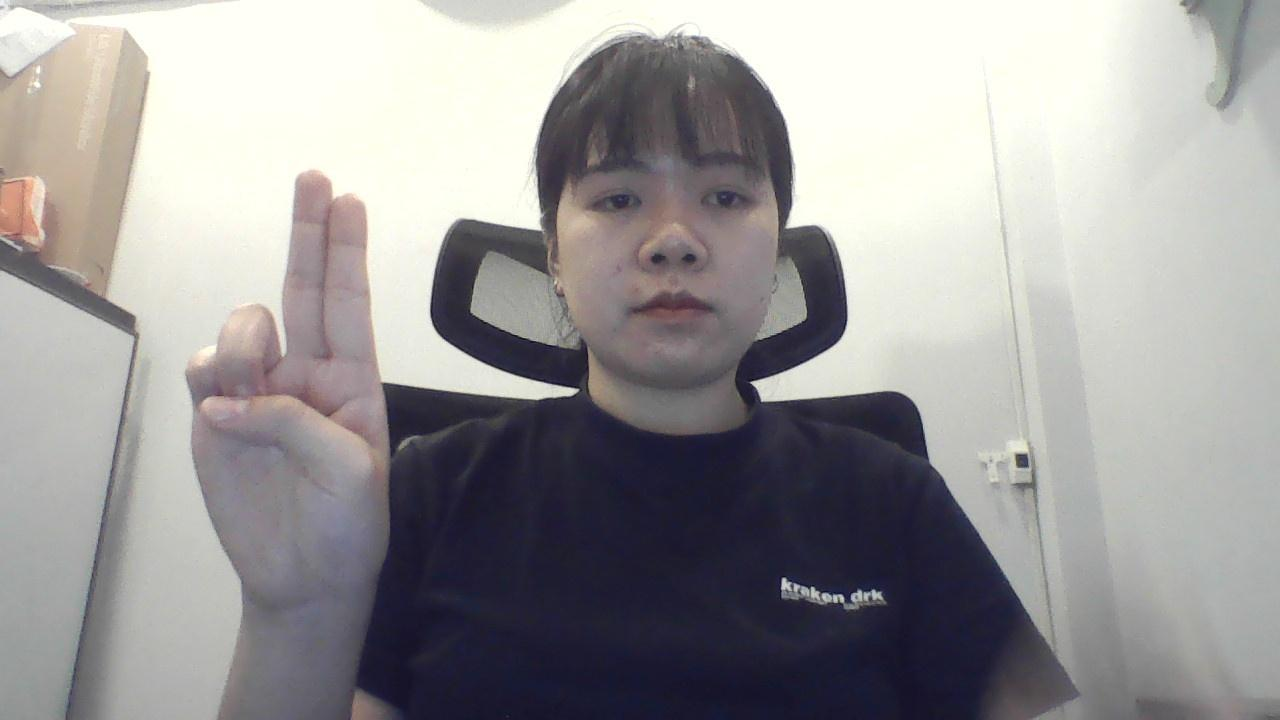U: (162, 157, 403, 628)
